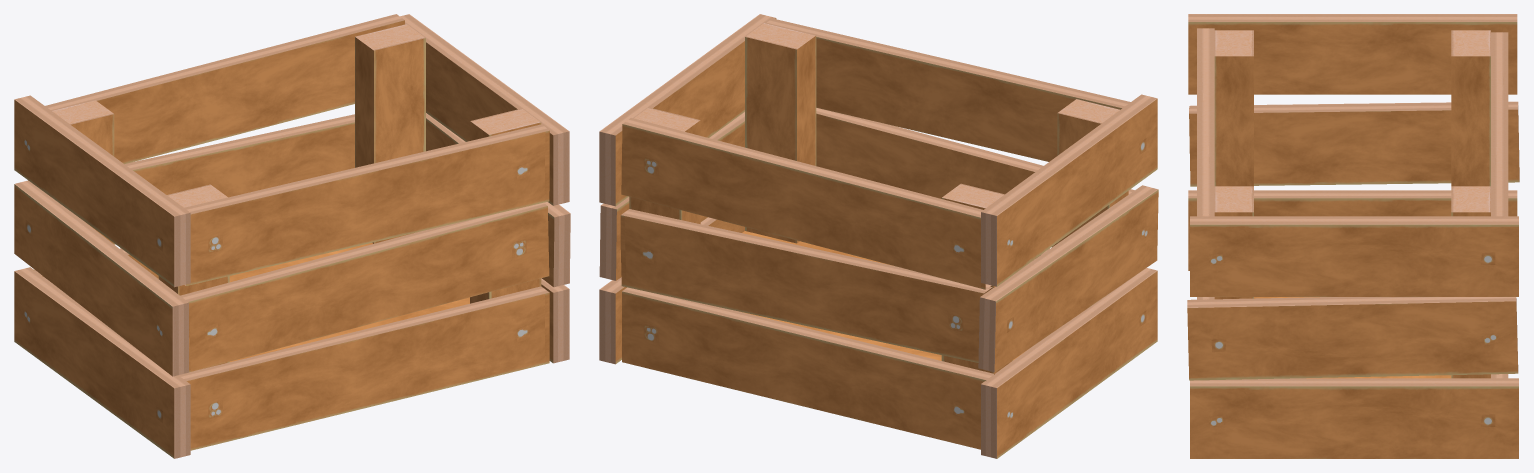
The model's file is Container_2.fbx.
3 renders of one model, left to right at view 1: azimuth 30°, elevation 25°; view 2: azimuth 150°, elevation 25°; view 3: azimuth 270°, elevation 25°, orthographic. The views are drawn at different scales.
Visible parts, largest first — view 1: Container_2; view 2: Container_2; view 3: Container_2.
Boxes of the visible parts, left/top/right/bottom form: Container_2: left=14, top=14, right=570, bottom=458; Container_2: left=599, top=14, right=1158, bottom=458; Container_2: left=1187, top=14, right=1519, bottom=458.
Bounding box in the file's own units: 0.7394 × 0.4309 × 0.5214.
